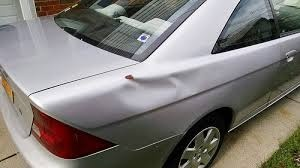Dent: (114, 68, 196, 111)
